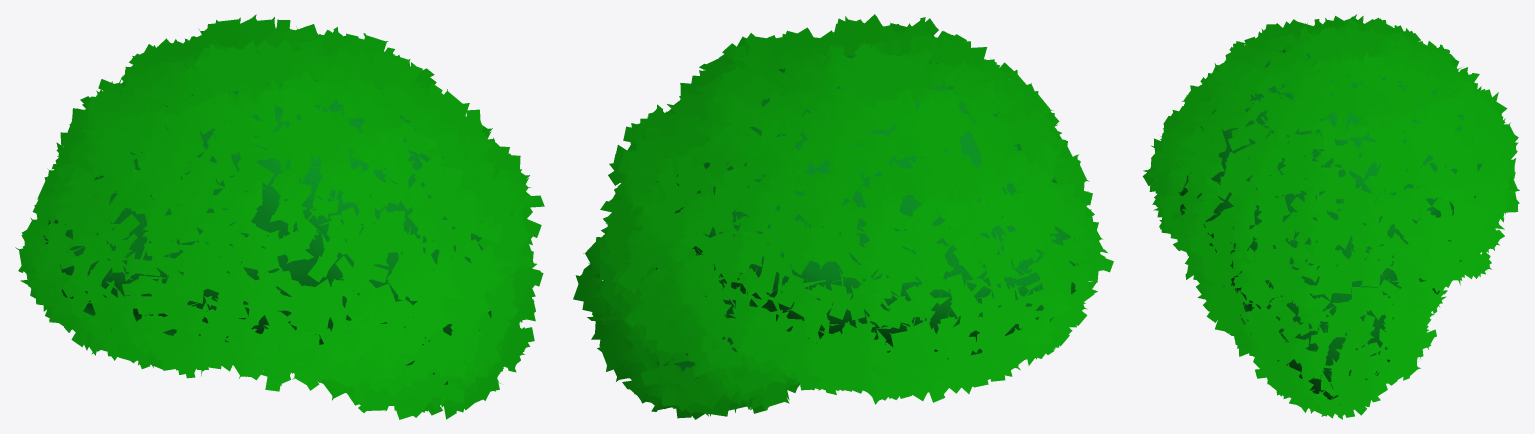
Rendered from TreeFoliage1.fbx.
The picture shows the model from 3 angles, left to right: view 1: azimuth 30°, elevation 25°; view 2: azimuth 150°, elevation 25°; view 3: azimuth 270°, elevation 25°; orthographic projection. The views are drawn at different scales.
Parts seen in each view (by area): view 1: treeFoliage; view 2: treeFoliage; view 3: treeFoliage.
Part boxes in pixels (x1=…): treeFoliage: x1=15, y1=14, x2=544, y2=419; treeFoliage: x1=573, y1=14, x2=1113, y2=419; treeFoliage: x1=1142, y1=14, x2=1519, y2=419.
Bounding box in the file's own units: 616 × 484 × 535.
